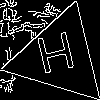H: (33, 31, 80, 84)
